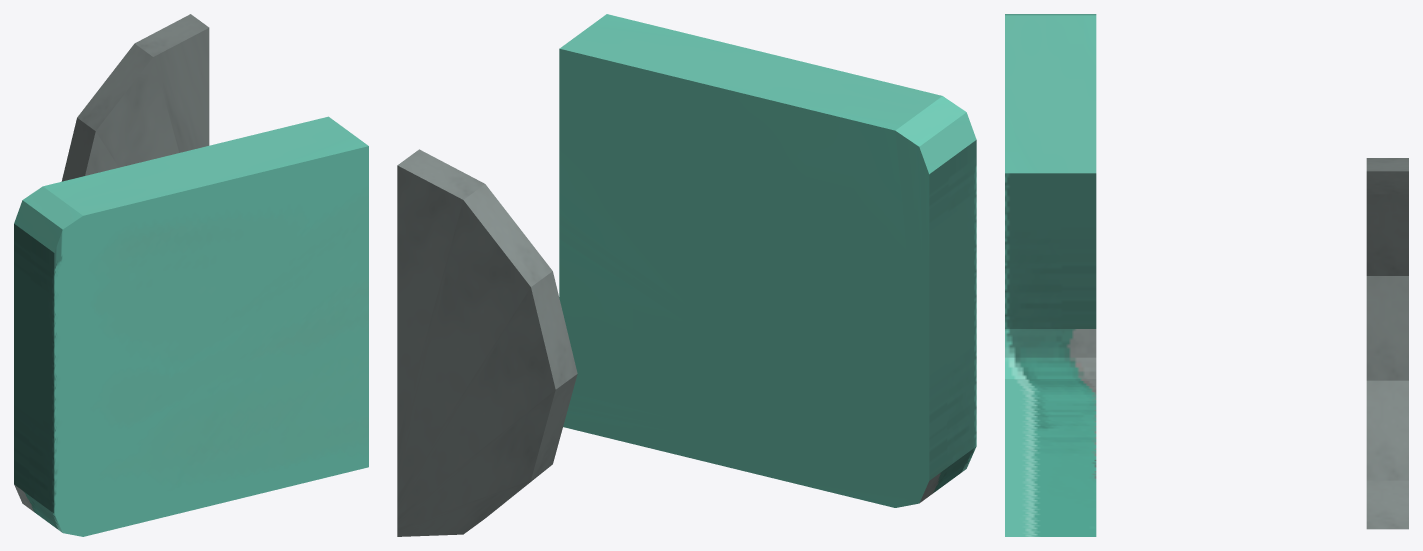
File: pz_g019_50s_diner_table_part1.obj
3 renders of one model, left to right at view 1: azimuth 30°, elevation 25°; view 2: azimuth 150°, elevation 25°; view 3: azimuth 270°, elevation 25°, orthographic. The views are drawn at different scales.
Parts seen in each view (by area): view 1: tabletop_top, tabletop_edge, pedestal_0_cap1, pedestal_0_side; view 2: tabletop_bottom, pedestal_0_cap0, tabletop_edge, pedestal_0_side; view 3: tabletop_edge, pedestal_0_side.
Part boxes in pixels (x1,y1,x2,y2): tabletop_top: (54, 146, 368, 536); tabletop_edge: (14, 116, 368, 532); pedestal_0_cap1: (85, 28, 209, 175); pedestal_0_side: (61, 14, 208, 181); tabletop_bottom: (559, 48, 929, 507); pedestal_0_cap0: (397, 165, 555, 536); tabletop_edge: (560, 14, 976, 503); pedestal_0_side: (397, 149, 577, 532); tabletop_edge: (1005, 14, 1096, 536); pedestal_0_side: (1366, 158, 1408, 529).
Bounding box in the file's own units: 0.9814 × 0.9623 × 0.9629.
Materials: 1 (1 with a texture image).
